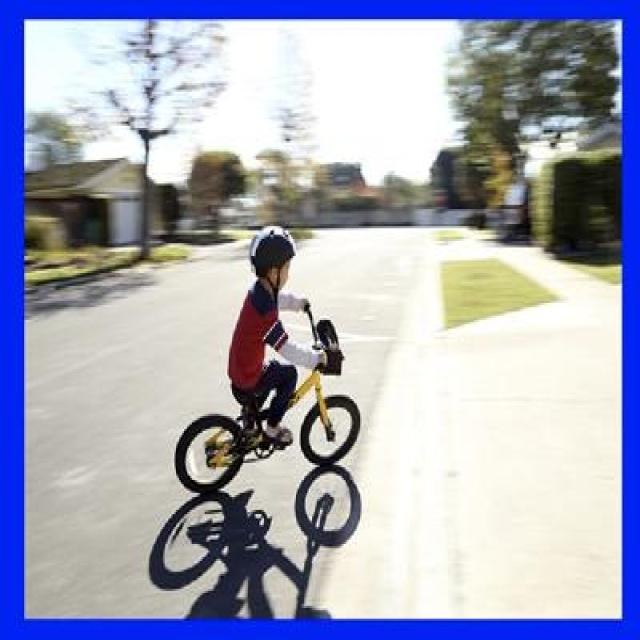Helmet: (245, 211, 298, 299)
